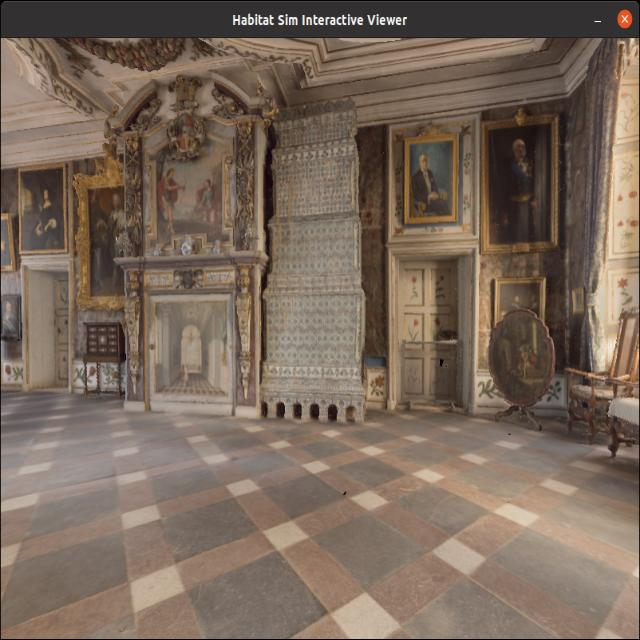chair: (556, 297, 640, 434)
door: (401, 267, 463, 396)
door-frame: (388, 243, 482, 437)
